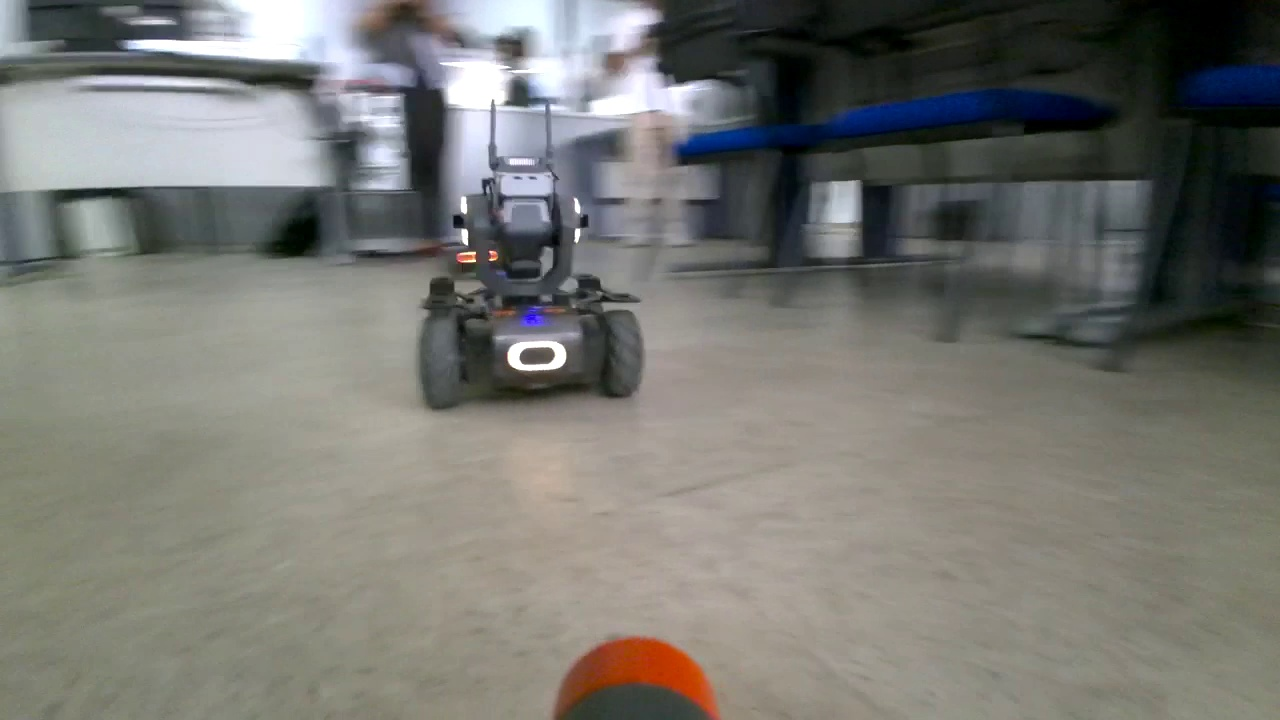robot: (419, 101, 648, 403)
